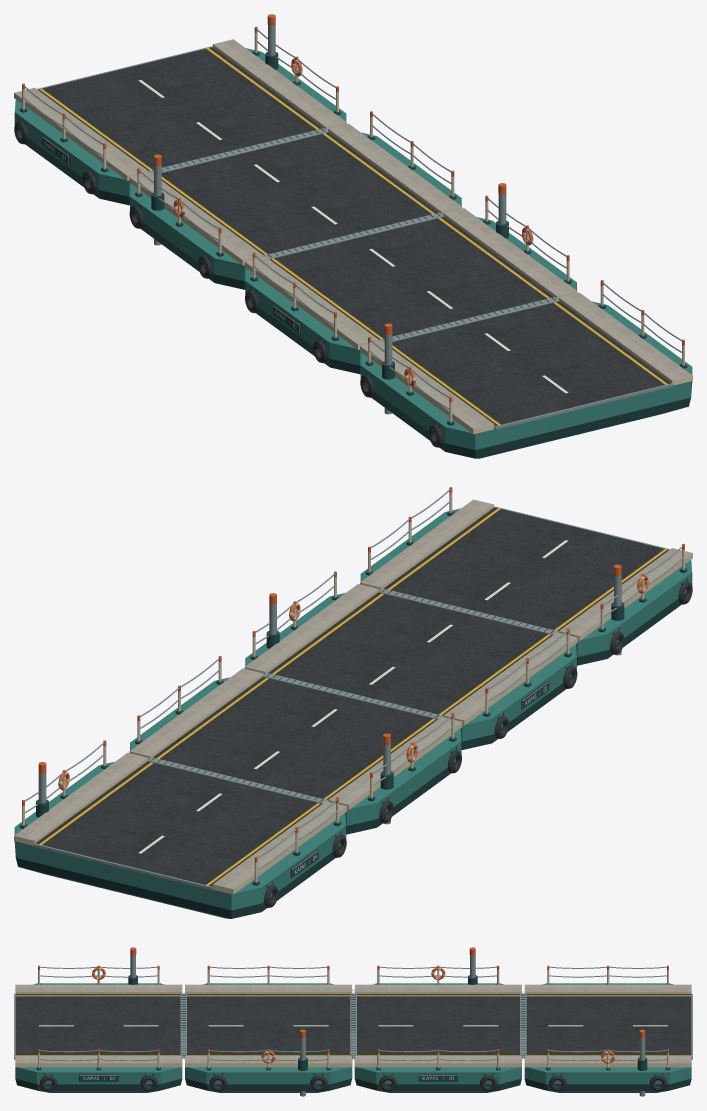
The picture shows the model from 3 angles, top to bottom: view 1: azimuth 30°, elevation 25°; view 2: azimuth 150°, elevation 25°; view 3: azimuth 270°, elevation 25°; orthographic projection. The views are drawn at different scales.
Parts seen in each view (by area): view 1: Asphalt wearing mat, Pontoon shells, Non skid walk, Hinged joint plates, Safety lines, Catenary safety wire, Safety stanchions, Hung tyre fenders, Mooring spuds, Socket joint nosings, Guide sleeves, Stanchion shoes (+1 smaller); view 2: Asphalt wearing mat, Pontoon shells, Non skid walk, Hinged joint plates, Safety lines, Catenary safety wire, Safety stanchions, Hung tyre fenders, Socket joint nosings, Mooring spuds, Guide sleeves, Stanchion shoes (+1 smaller); view 3: Asphalt wearing mat, Pontoon shells, Non skid walk, Catenary safety wire, Safety lines, Hung tyre fenders, Hinged joint plates, Safety stanchions, Hull builder plate, Mooring spuds, Centre dashes, Transverse grip ribs (+4 smaller).
Part boxes in pixels (x1,y1,x2,y2): Asphalt wearing mat: (38,47,671,428); Pontoon shells: (14,48,692,458); Non skid walk: (14,39,692,434); Hinged joint plates: (148,128,559,343); Safety lines: (39,47,667,425); Catenary safety wire: (23,29,681,409); Safety stanchions: (22,26,684,422); Hung tyre fenders: (14,121,442,447); Mooring spuds: (154,25,506,414); Socket joint nosings: (37,46,672,429); Guide sleeves: (151,52,508,379); Stanchion shoes: (19,51,687,425); Asphalt wearing mat: (35,507,668,889); Pontoon shells: (14,508,692,918); Non skid walk: (14,499,692,894); Hinged joint plates: (147,588,558,803); Safety lines: (39,508,667,885); Catenary safety wire: (25,489,683,869); Safety stanchions: (22,487,684,882); Hung tyre fenders: (264,581,692,907); Socket joint nosings: (34,506,670,889); Mooring spuds: (38,575,621,824); Guide sleeves: (36,602,624,817); Stanchion shoes: (19,511,687,885); Asphalt wearing mat: (15,994,691,1059); Pontoon shells: (15,983,691,1092); Non skid walk: (15,984,691,1067); Catenary safety wire: (40,966,666,1060); Safety lines: (15,995,691,1055); Hung tyre fenders: (39,1075,667,1091); Hinged joint plates: (180,993,526,1057); Safety stanchions: (38,965,668,1068); Hull builder plate: (79,1074,457,1081); Mooring spuds: (130,955,645,1096); Centre dashes: (39,1025,667,1026); Transverse grip ribs: (181,994,525,1055).
Bounding box in the file's own units: 10.21 × 3.43 × 32.
13 materials, 2 textured.
